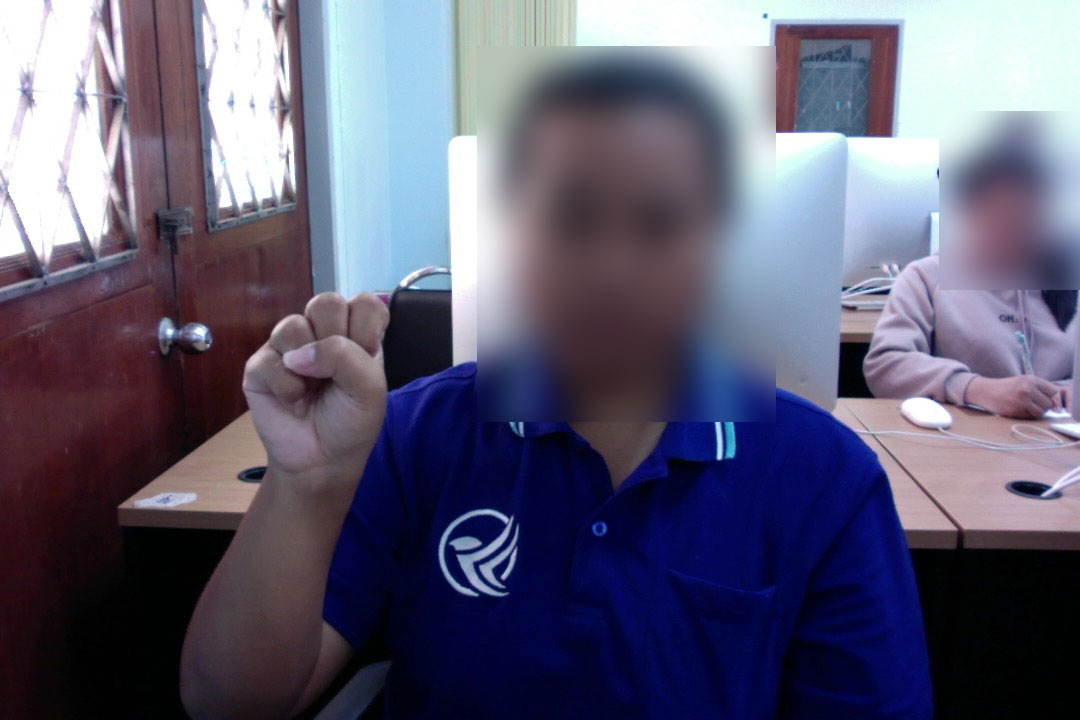sor: (233, 285, 398, 487)
